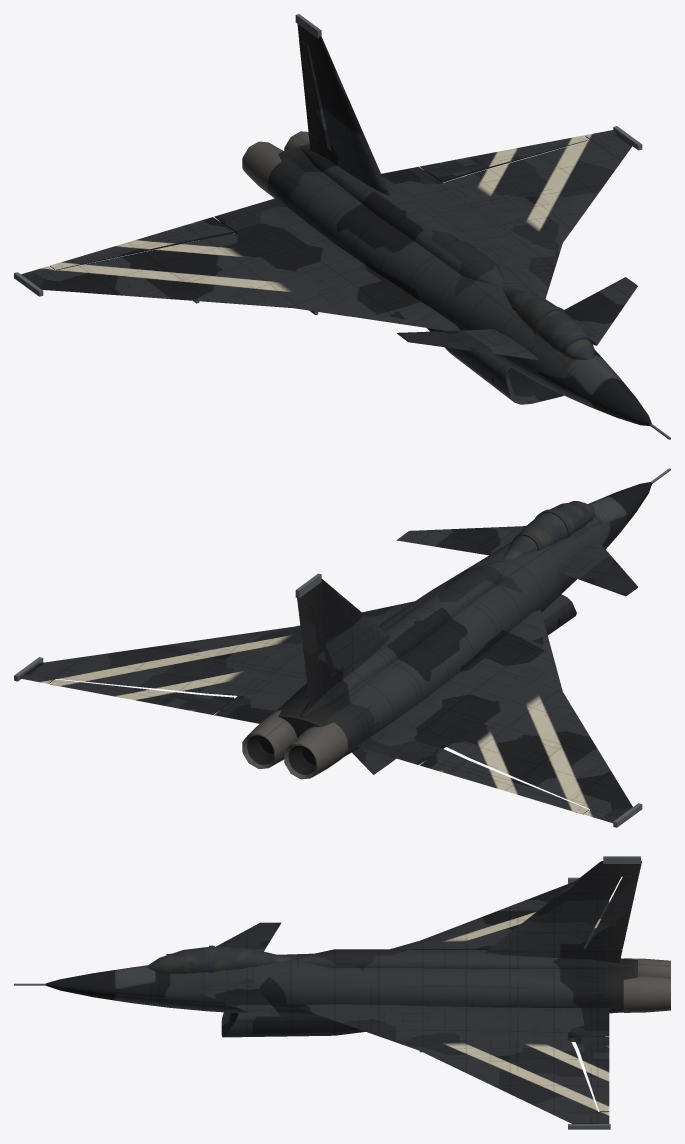
The model's file is vanta-vulture.fbx.
3 views of the same model, one above another, from view 1: azimuth 30°, elevation 25°; view 2: azimuth 150°, elevation 25°; view 3: azimuth 270°, elevation 25° (orthographic). The views are drawn at different scales.
Parts seen in each view (by area): view 1: Body, Aileron_L, Elevator_R, Elevator_L, Aileron_R, Rudder; view 2: Body, Aileron_L, Elevator_R, Aileron_R, Elevator_L, Rudder; view 3: Body, Rudder, Aileron_R, Elevator_R, Elevator_L.
Part boxes in pixels (x1,y1,x2,y2): Body: [14, 14, 670, 439]; Aileron_L: [50, 217, 234, 270]; Elevator_R: [564, 277, 637, 345]; Elevator_L: [397, 329, 538, 359]; Aileron_R: [420, 135, 588, 182]; Rudder: [299, 39, 330, 147]; Body: [14, 468, 670, 827]; Aileron_L: [420, 748, 588, 814]; Elevator_R: [396, 526, 525, 555]; Aileron_R: [50, 679, 234, 714]; Elevator_L: [557, 540, 637, 596]; Rudder: [299, 606, 331, 691]; Body: [14, 856, 670, 1129]; Rudder: [585, 876, 638, 949]; Aileron_R: [573, 1036, 609, 1111]; Elevator_R: [186, 985, 280, 1017]; Elevator_L: [216, 922, 281, 951].
Size of the model in its own units: 693 by 225 by 777.
Materials: 1 (1 with a texture image).
